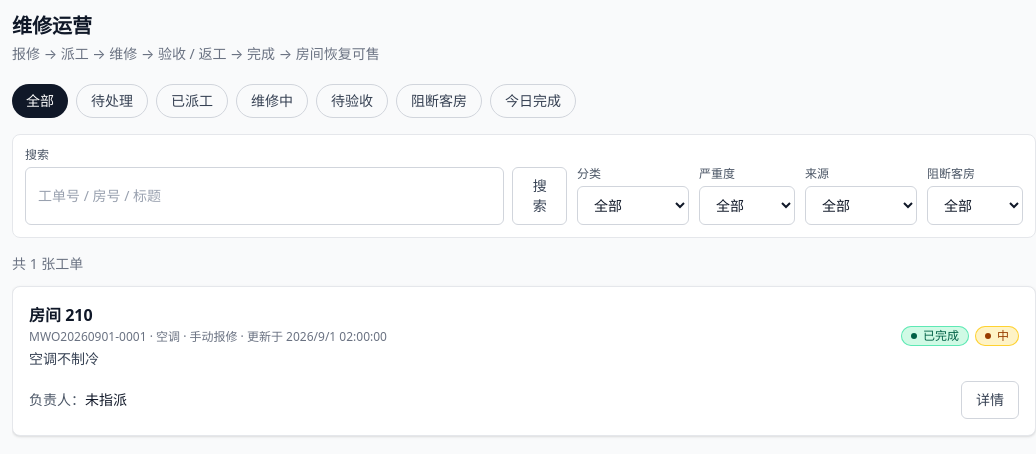
Test case: MaintenanceWorkspaceView › 今日完成视图查询 COMPLETED 并按完成时间过滤
Expected: the link "房间 210" is shown, [29,304,93,326]
Click the button "今日完成".
click(533, 101)  # box [490,84,576,118]
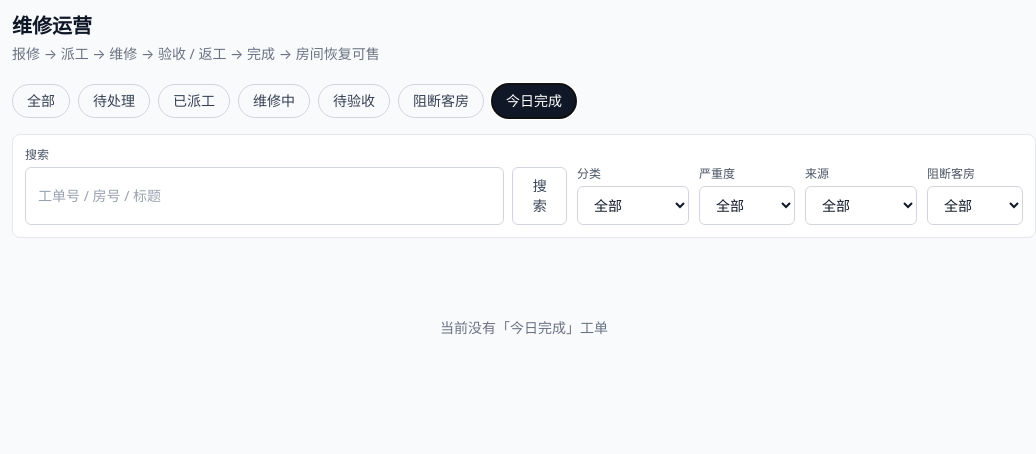
Now the text "当前没有「今日完成」工单" is shown, box [440,318,608,337]
